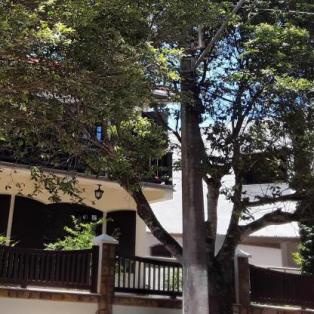Poste: (171, 0, 220, 310)
